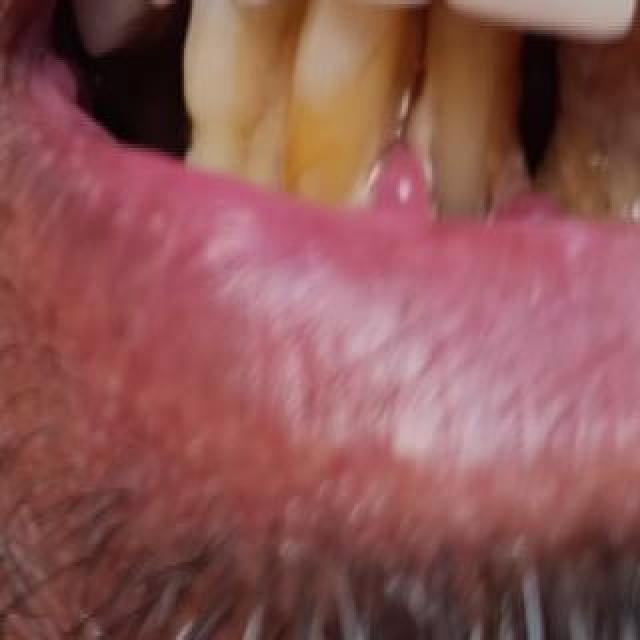calculus: (176, 3, 294, 205), (375, 57, 487, 239), (552, 62, 640, 226)
missing: (96, 27, 190, 177)
spacing: (499, 3, 577, 207)
stains: (294, 36, 400, 206)
